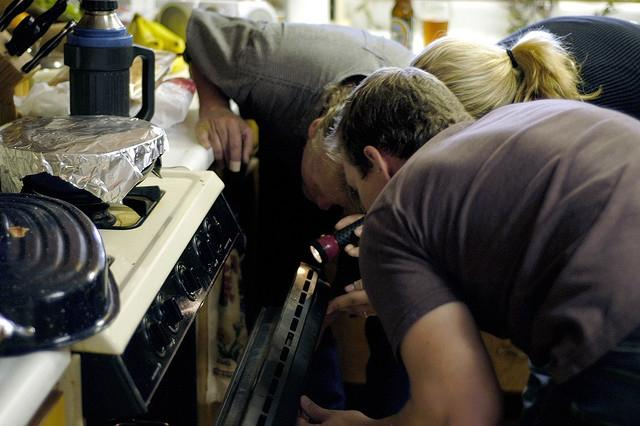banana: (145, 19, 186, 54), (136, 14, 166, 51), (126, 15, 138, 43)
